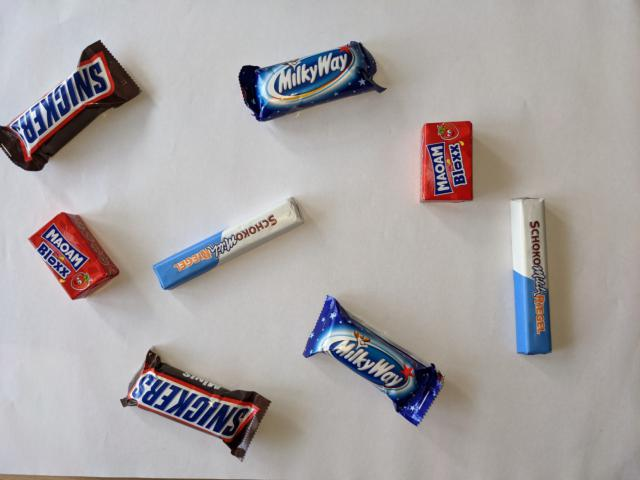MAOAM: (26, 208, 123, 303), (417, 117, 476, 207)
MilkyWay: (298, 292, 447, 430), (234, 38, 389, 125)
Schokoriegel: (148, 193, 308, 295), (507, 193, 556, 358)
Snickers: (1, 35, 145, 176), (114, 342, 273, 465)
